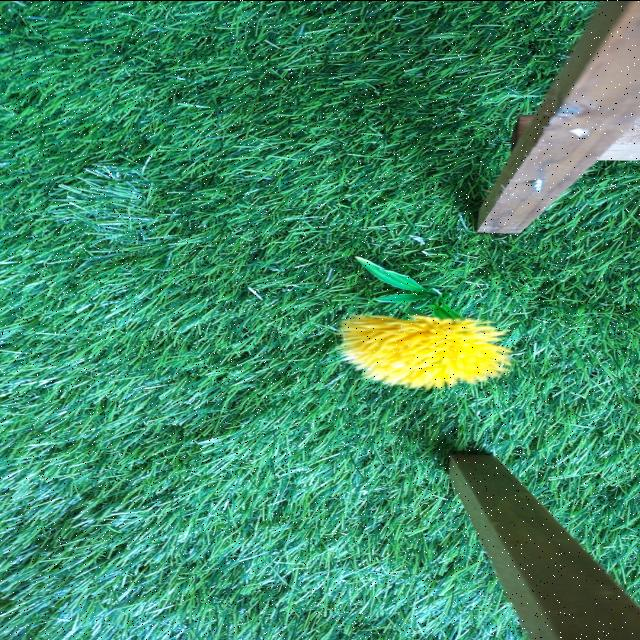base: (358, 256, 461, 313)
flower: (339, 316, 507, 391)
